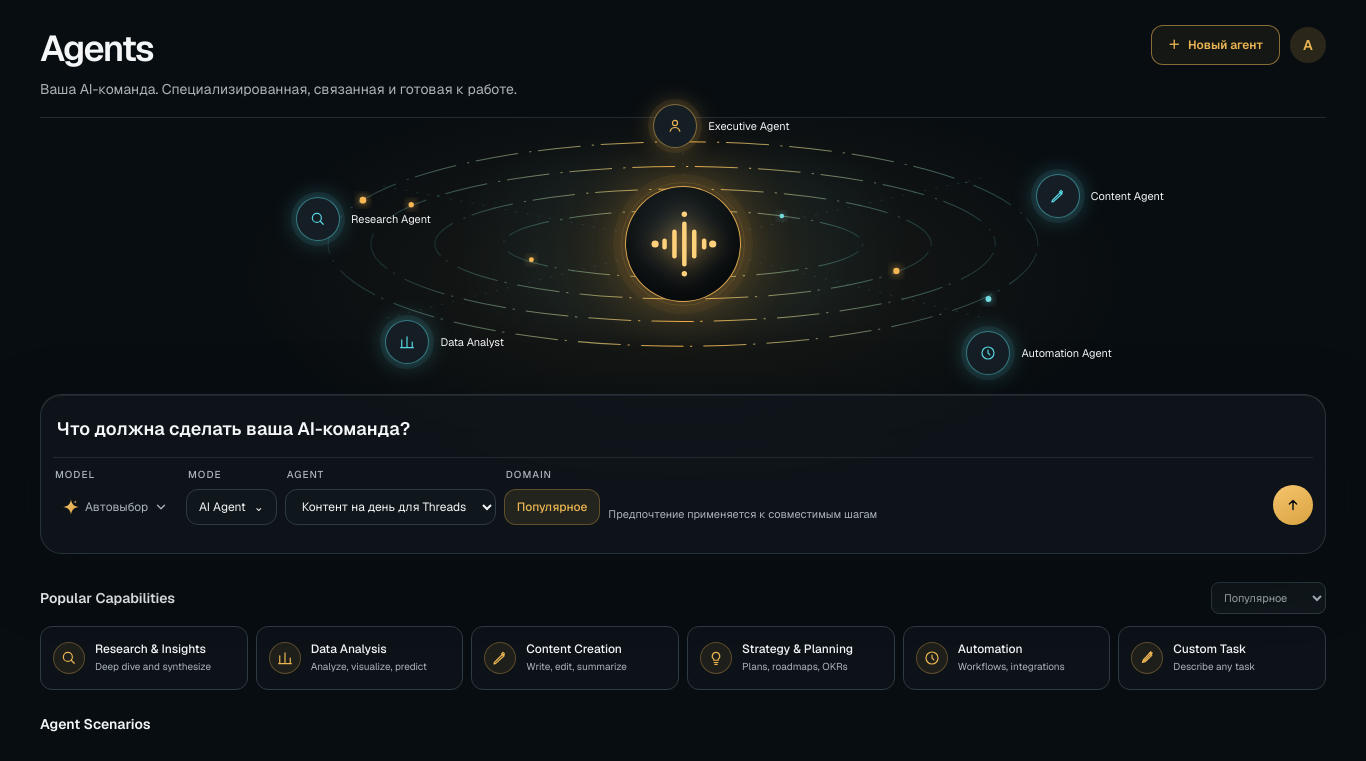
Test: AgentsPage › shows all agents under Популярное and filters by category tab
The image size is (1366, 761).
Select "Исследования" in the dropdown named "Категория агентов": (1268, 598) [1211, 582, 1326, 614]
(page scrolled)
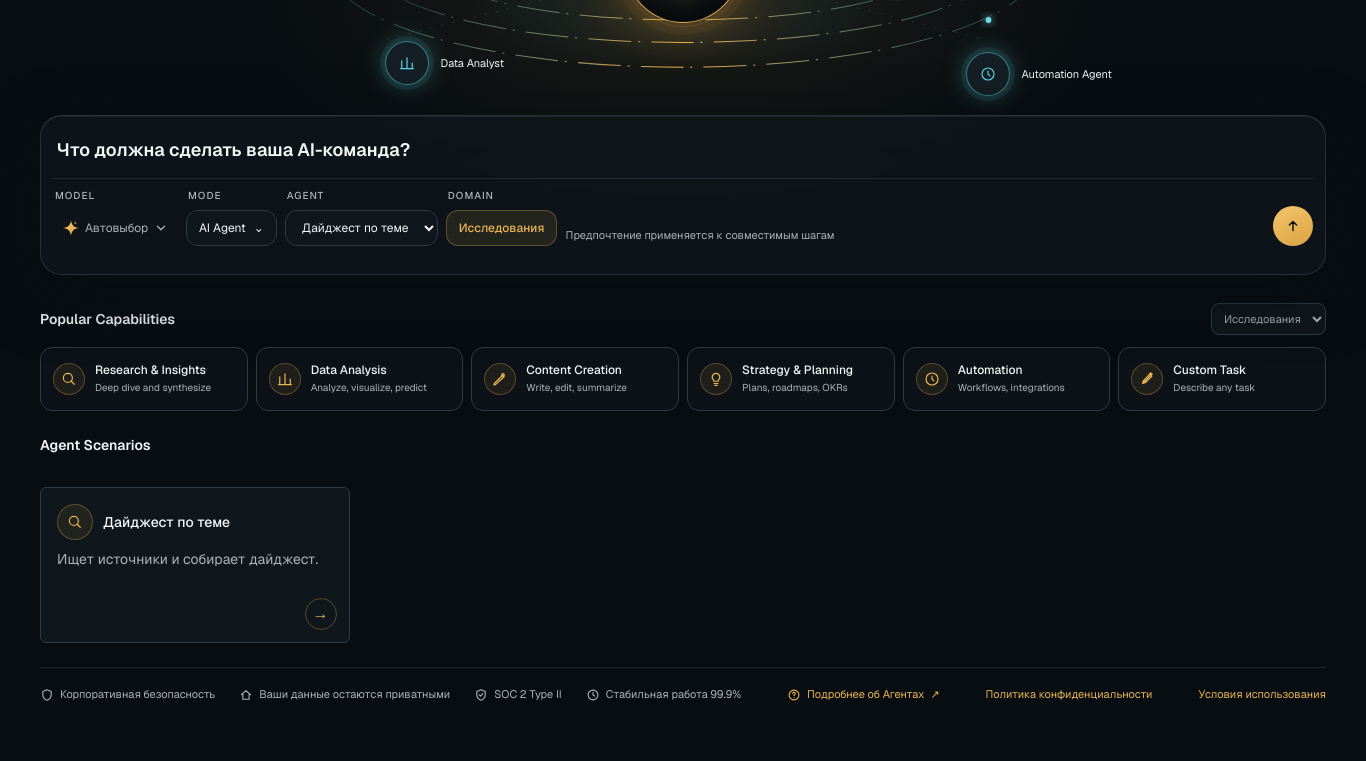
Expected: the link "Контент на день для Threads" is not shown
Expected: the link "Дайджест по теме Ищет источники и собирает дайджест. →" is shown, [40, 487, 350, 643]
